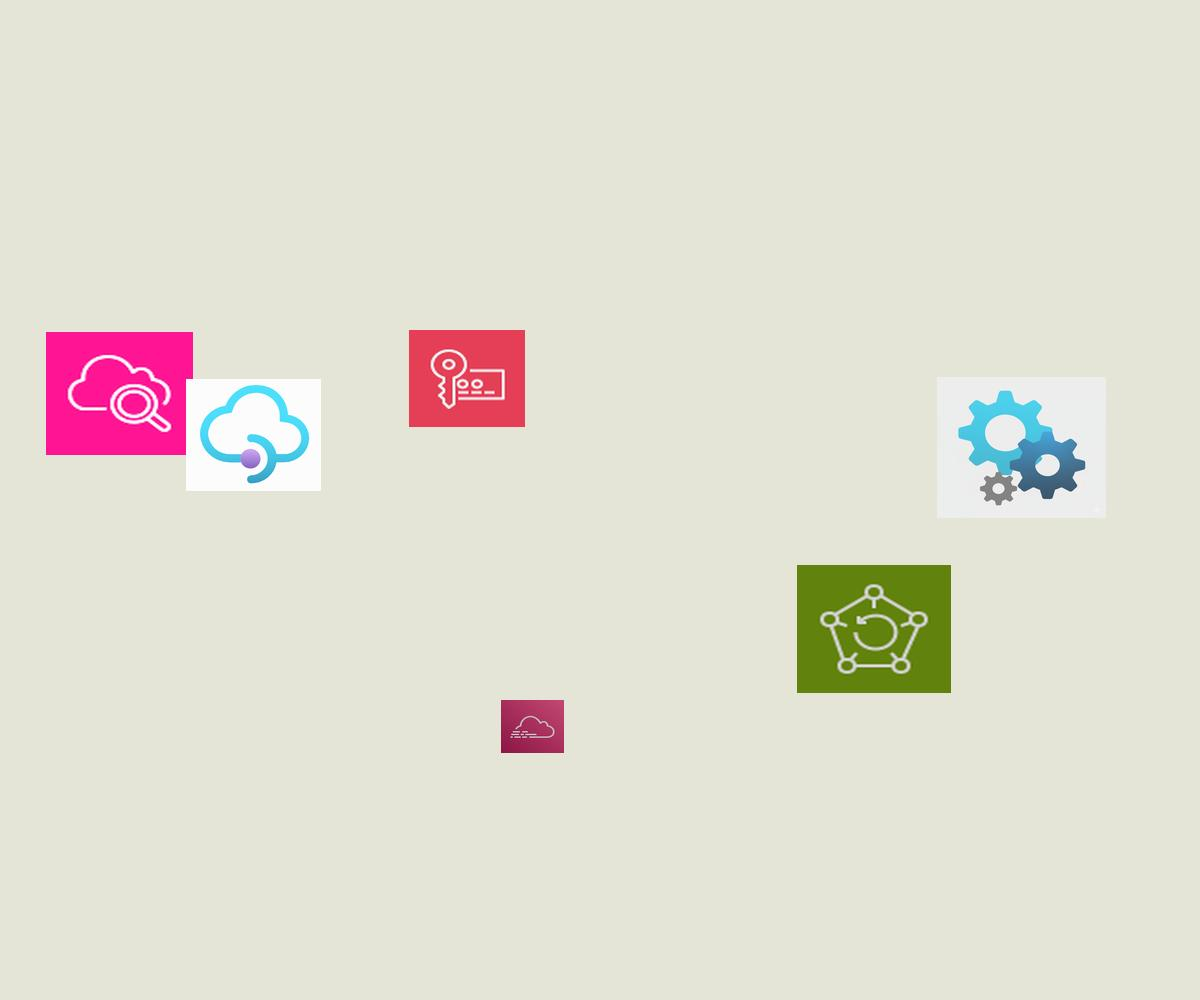AWS-Backup: (797, 565, 951, 693)
AWS-CloudTrail: (501, 700, 564, 753)
AWS-CloudWatch: (46, 332, 193, 455)
AWS-Key-Management-Service: (409, 330, 525, 427)
Azure_api: (937, 377, 1106, 518)
Azure_api_gateway: (186, 379, 321, 491)
